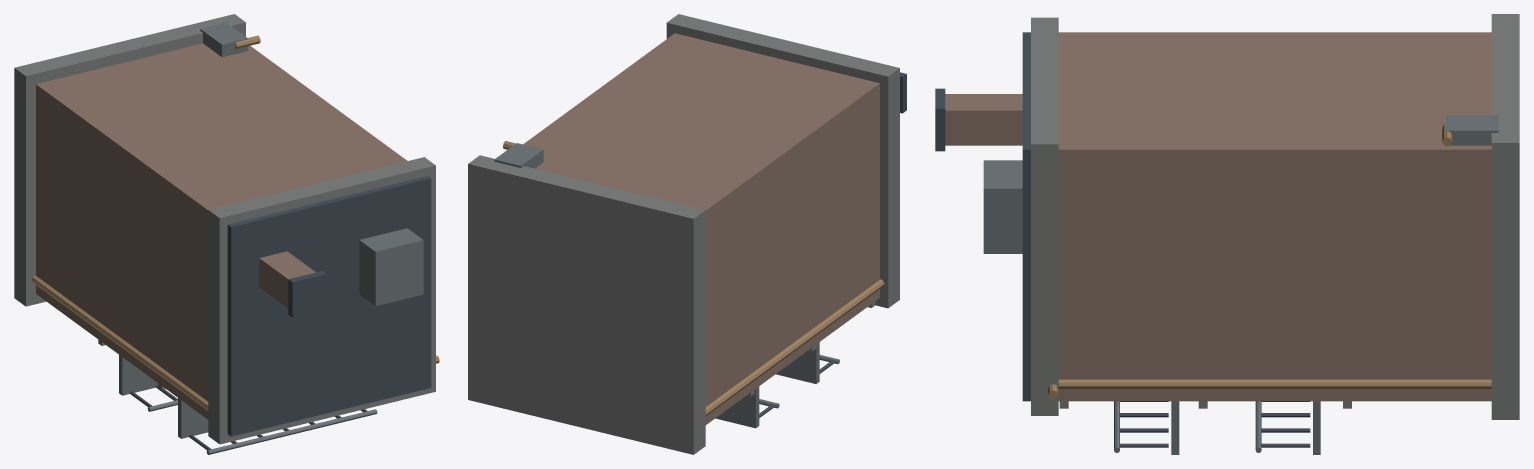
The model's file is powerquest_townhouse.glb.
3 renders of one model, left to right at view 1: azimuth 30°, elevation 25°; view 2: azimuth 150°, elevation 25°; view 3: azimuth 270°, elevation 25°, orthographic. The views are drawn at different scales.
Visible parts, largest first — view 1: TallBrickFacade1, Roof3, Parapet2, Foundation0, RooftopVent62, DrainPipe58, Chimney63, ChimneyCap64, PowerConnection65, BalconyTop57, SteelBalconyDeck40, SteelBalconyDeck49; view 2: TallBrickFacade1, Foundation0, Parapet2, DrainPipe58, SteelBalconyDeck40, SteelBalconyDeck49, PowerConnection65; view 3: TallBrickFacade1, Foundation0, Parapet2, DrainPipe60, Chimney63, RooftopVent62, Roof3, PowerConnection65, ChimneyCap64.
Boxes of the visible parts, x1,y1,x2,y2 form: TallBrickFacade1: (36,43,407,419); Roof3: (227,176,431,436); Parapet2: (208,157,435,444); Foundation0: (14,14,245,306); RooftopVent62: (359,228,423,306); DrainPipe58: (31,275,208,410); Chimney63: (259,251,315,308); ChimneyCap64: (288,271,326,317); PowerConnection65: (200,22,248,57); BalconyTop57: (206,409,377,454); SteelBalconyDeck40: (119,355,158,395); SteelBalconyDeck49: (178,398,208,438); TallBrickFacade1: (523,33,879,424); Foundation0: (468,155,705,454); Parapet2: (666,14,899,308); DrainPipe58: (705,279,884,415); SteelBalconyDeck40: (715,386,759,428); SteelBalconyDeck49: (776,342,819,383); PowerConnection65: (494,143,543,168); TallBrickFacade1: (1058,32,1491,401); Foundation0: (1491,14,1519,419); Parapet2: (1031,17,1058,415); DrainPipe60: (1058,379,1491,388); Chimney63: (945,94,1022,145); RooftopVent62: (983,160,1022,253); Roof3: (1022,32,1030,401); PowerConnection65: (1446,115,1498,145); ChimneyCap64: (935,88,945,151).
Bounding box in the file's own units: 5.72 × 6.51 × 10.52.
